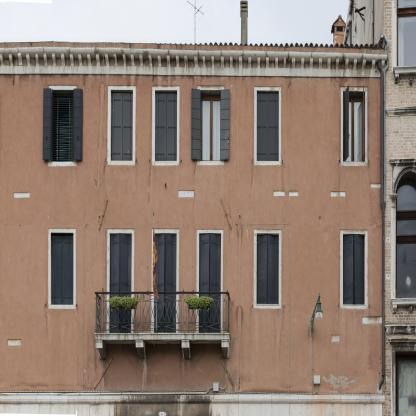Balcony: (95, 291, 229, 333)
Building Outline: (0, 0, 387, 415)
Door: (154, 233, 177, 332), (110, 233, 132, 332), (199, 233, 221, 332)
Facade: (1, 0, 388, 415)
Floor: (1, 220, 384, 333), (1, 341, 384, 415)
Floor Slab: (1, 334, 384, 342), (1, 212, 384, 220)
Molding: (0, 47, 386, 79)
Top Floor: (1, 76, 384, 212)
Window: (51, 90, 73, 162), (257, 233, 279, 305), (343, 234, 365, 305), (51, 233, 73, 304), (111, 90, 133, 161), (155, 90, 177, 161), (200, 90, 222, 161), (343, 91, 365, 162), (257, 90, 279, 161)
